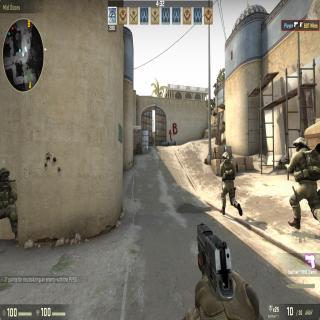CT-Body: (285, 136, 320, 232), (0, 165, 19, 246), (219, 150, 241, 217)
CT-Head: (292, 136, 310, 154), (0, 168, 12, 183), (221, 148, 231, 164)
